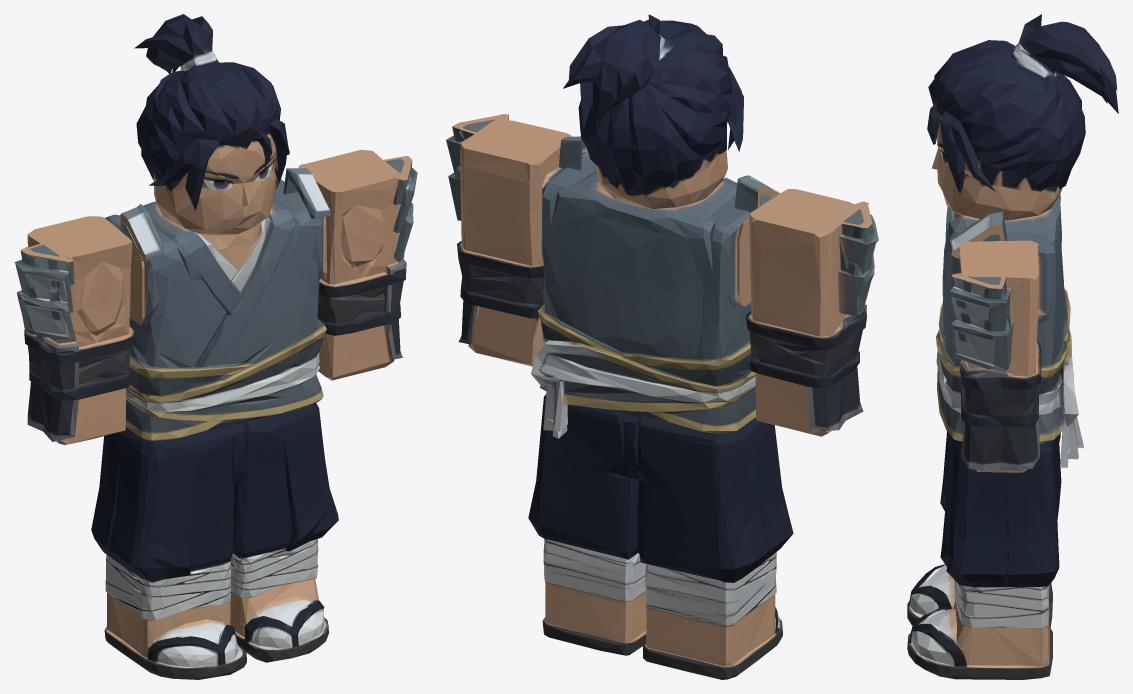
File: Tora_R6_Auto_v2.fbx
The picture shows the model from 3 angles, left to right: view 1: azimuth 30°, elevation 25°; view 2: azimuth 150°, elevation 25°; view 3: azimuth 270°, elevation 25°; orthographic projection. The views are drawn at different scales.
Visible parts, largest first — view 1: Torso, RightLeg, Head, RightArm, LeftLeg, LeftArm; view 2: Torso, RightLeg, RightArm, Head, LeftLeg, LeftArm; view 3: Head, LeftLeg, LeftArm, Torso, RightLeg.
Part boxes in pixels (x1,y1,x2,y2): Torso: (91,168,336,564); RightLeg: (91,434,246,679); Head: (134,14,289,231); RightArm: (14,216,134,445); LeftLeg: (230,417,338,662); LeftArm: (298,149,417,380); Torso: (531,136,793,568); RightLeg: (629,424,792,679); RightArm: (746,189,878,436); Head: (563,14,743,206); LeftLeg: (528,407,646,655); LeftArm: (446,114,571,366); Head: (927,14,1118,219); LeftLeg: (907,433,1083,679); LeftArm: (949,240,1041,472); Torso: (936,195,1083,574); RightLeg: (907,431,1061,627).
Bounding box in the file's own units: 4.12 × 5.98 × 1.85.
1 material, 1 textured.
